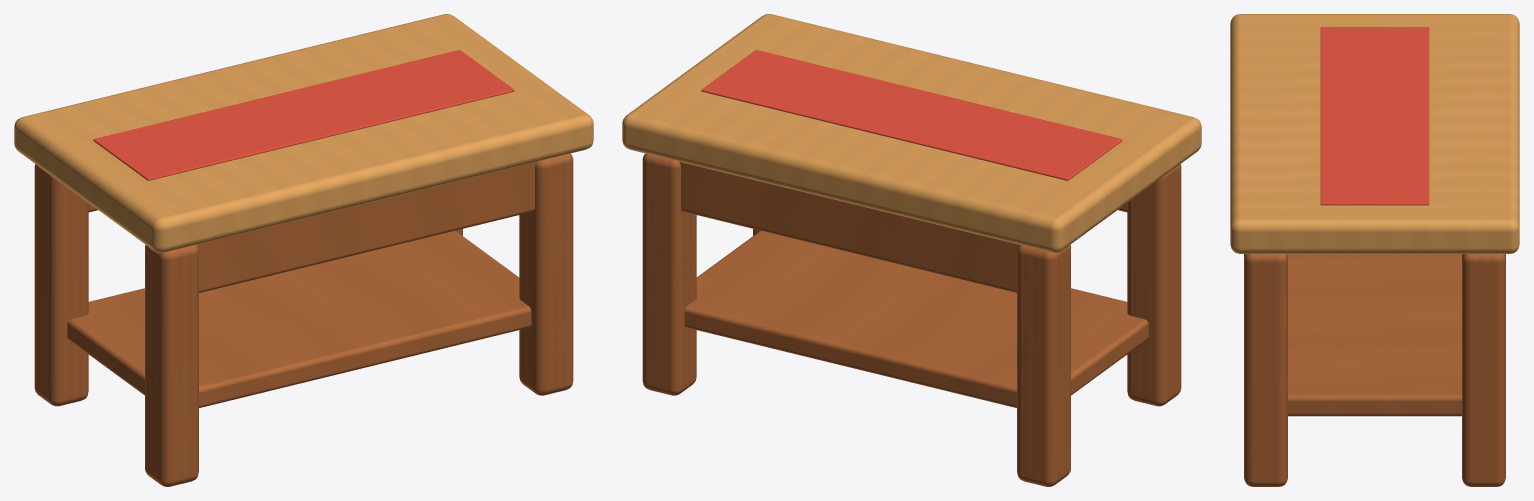
File: TABLE.glb
3 renders of one model, left to right at view 1: azimuth 30°, elevation 25°; view 2: azimuth 150°, elevation 25°; view 3: azimuth 270°, elevation 25°, orthographic.
Parts seen in each view (by area): view 1: TABLE; view 2: TABLE; view 3: TABLE.
Part boxes in pixels (<box>): TABLE: <box>14,14,593,486</box>; TABLE: <box>622,14,1201,486</box>; TABLE: <box>1230,14,1519,486</box>.
Size of the model in its own units: 1.2 by 0.725 by 0.691.
3 materials, 3 textured.
